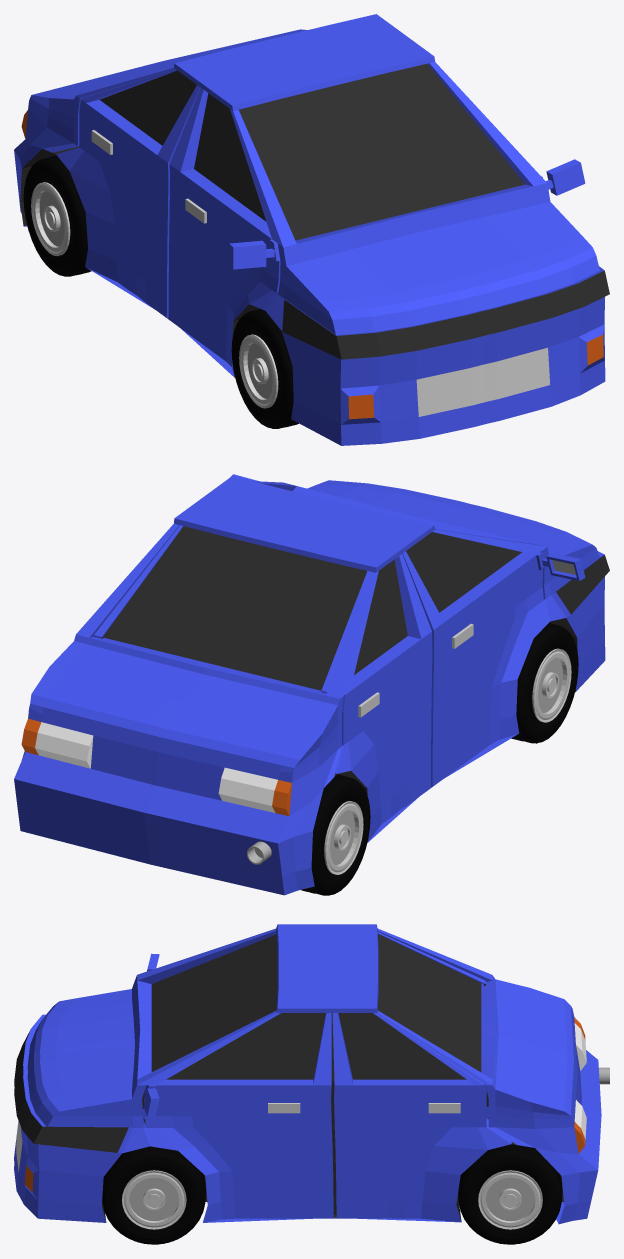
3 views of the same model, one above another, from view 1: azimuth 30°, elevation 25°; view 2: azimuth 150°, elevation 25°; view 3: azimuth 270°, elevation 25° (orthographic). The views are drawn at different scales.
Visible parts, largest first — view 1: BODY32, WHEEL.004, WHEEL.001; view 2: BODY32, WHEEL.001, WHEEL.004; view 3: BODY32, WHEEL.002, WHEEL.003.
Boxes of the visible parts, left/top/right/bottom form: BODY32: left=14, top=14, right=609, bottom=445; WHEEL.004: left=23, top=155, right=91, bottom=276; WHEEL.001: left=231, top=308, right=298, bottom=428; BODY32: left=14, top=474, right=609, bottom=895; WHEEL.001: left=511, top=623, right=578, bottom=743; WHEEL.004: left=301, top=774, right=370, bottom=895; BODY32: left=14, top=924, right=601, bottom=1224; WHEEL.002: left=458, top=1144, right=562, bottom=1244; WHEEL.003: left=102, top=1146, right=205, bottom=1244.
Bounding box in the file's own units: 131 × 91.22 × 224.
